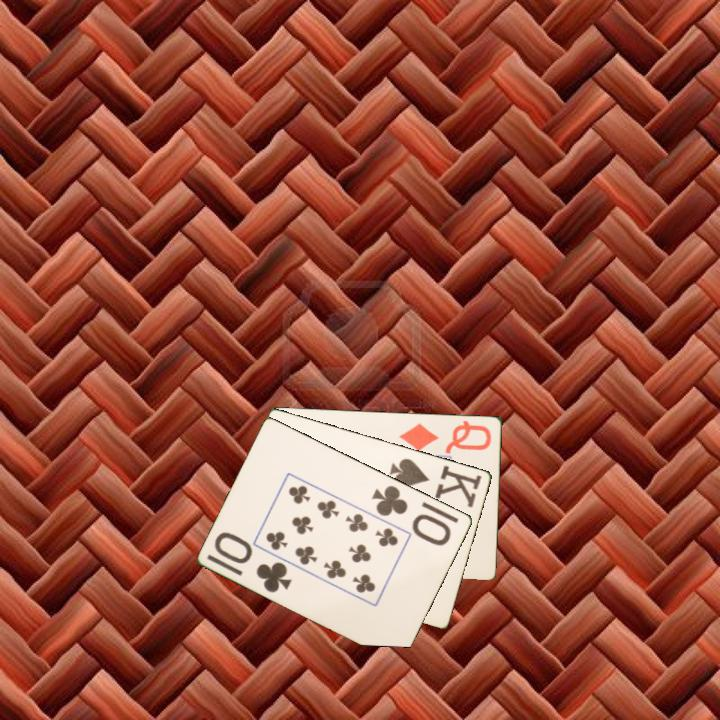10c: (368, 482, 454, 548), (211, 529, 295, 596)
Ks: (386, 454, 485, 510)
Qd: (396, 417, 495, 456)
